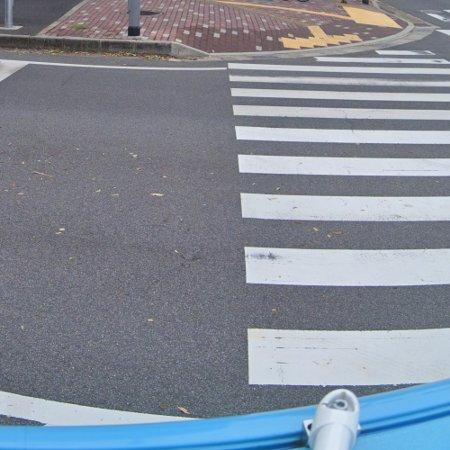crosswalks: (226, 45, 450, 389)
